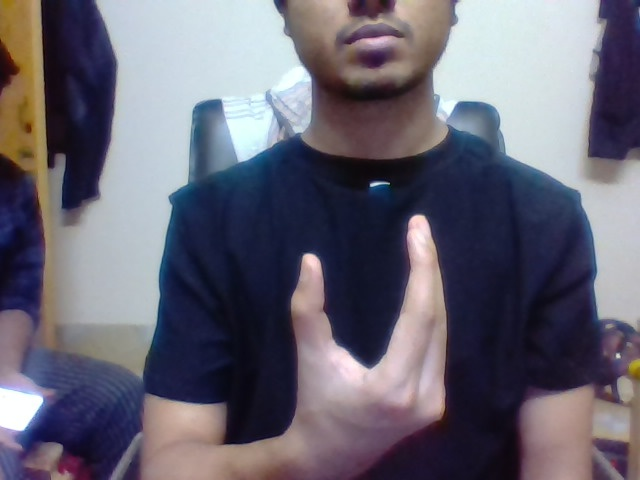U: (275, 208, 465, 386)
